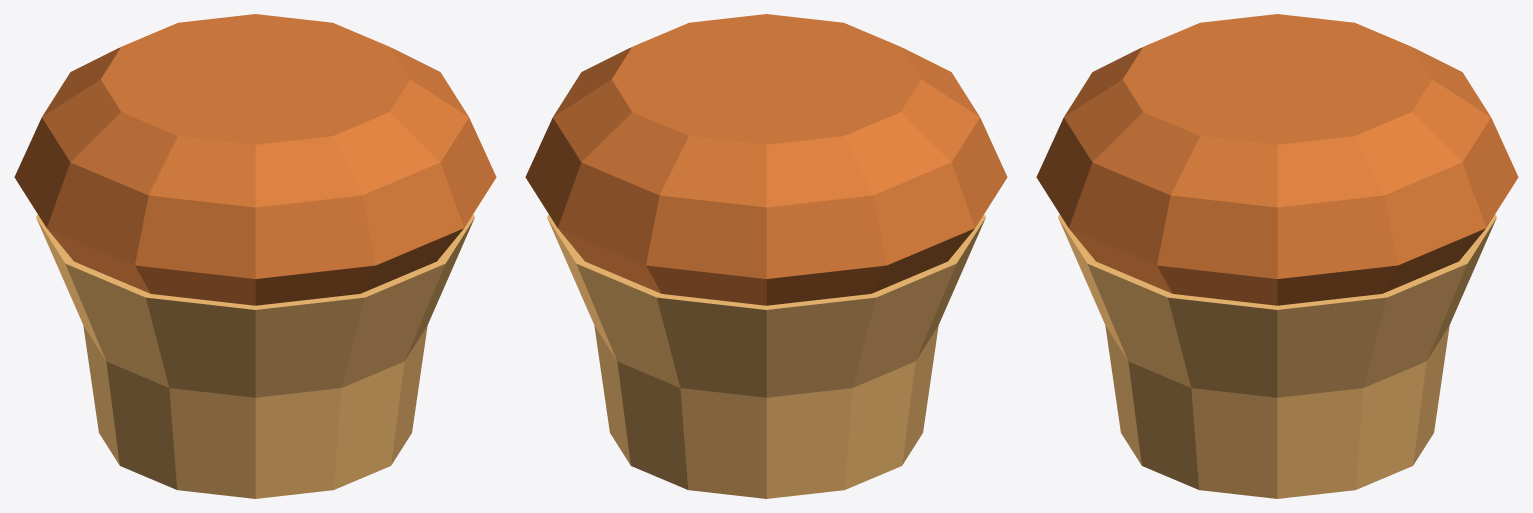
Rendered from CandylandCupcake_05.fbx.
The picture shows the model from 3 angles, left to right: view 1: azimuth 30°, elevation 25°; view 2: azimuth 150°, elevation 25°; view 3: azimuth 270°, elevation 25°; orthographic projection.
Parts seen in each view (by area): view 1: CandylandCupcake_05; view 2: CandylandCupcake_05; view 3: CandylandCupcake_05.
Part boxes in pixels (x1=…): CandylandCupcake_05: x1=14, y1=14, x2=496, y2=498; CandylandCupcake_05: x1=525, y1=14, x2=1007, y2=498; CandylandCupcake_05: x1=1036, y1=14, x2=1518, y2=498.
Size of the model in its own units: 0.4979 by 0.4026 by 0.4979.
